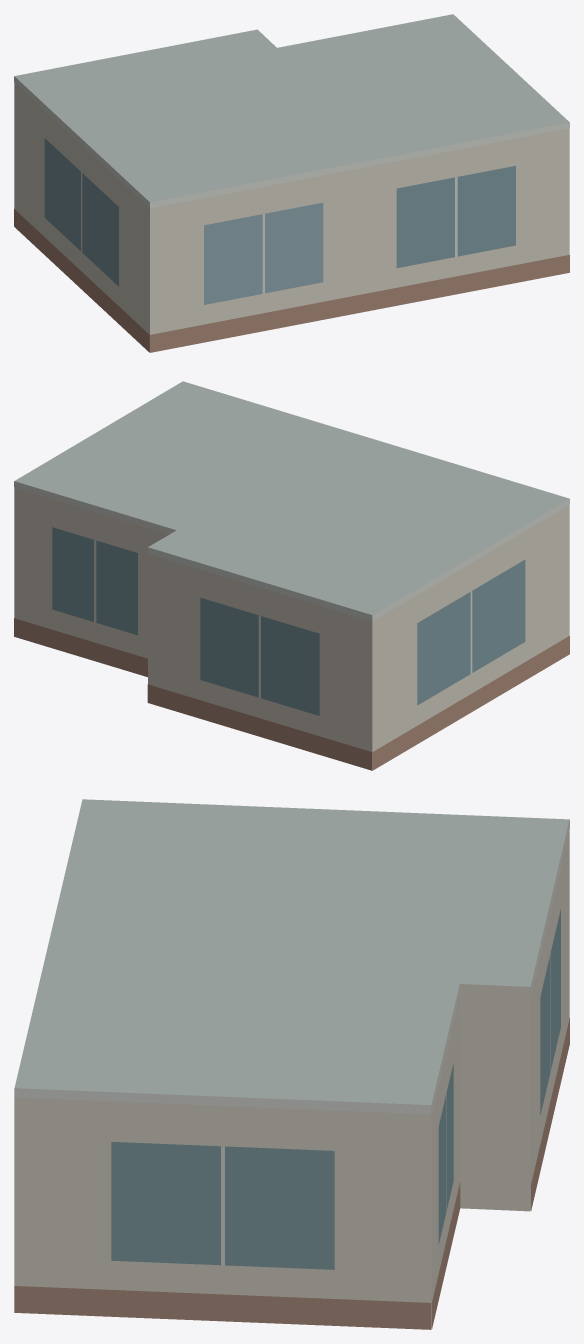
The model's file is survey-upis-32813601.glb.
3 renders of one model, top to bottom at view 1: azimuth 30°, elevation 25°; view 2: azimuth 150°, elevation 25°; view 3: azimuth 270°, elevation 25°, orthographic. The views are drawn at different scales.
Visible parts, largest first — view 1: survey-upis-32813601.tmp; view 2: survey-upis-32813601.tmp; view 3: survey-upis-32813601.tmp.
Part boxes in pixels (bbox=[...]): survey-upis-32813601.tmp: bbox=[14, 14, 569, 352]; survey-upis-32813601.tmp: bbox=[14, 381, 569, 770]; survey-upis-32813601.tmp: bbox=[14, 799, 569, 1329].
Size of the model in its own units: 8.93 by 3.05 by 6.85.
